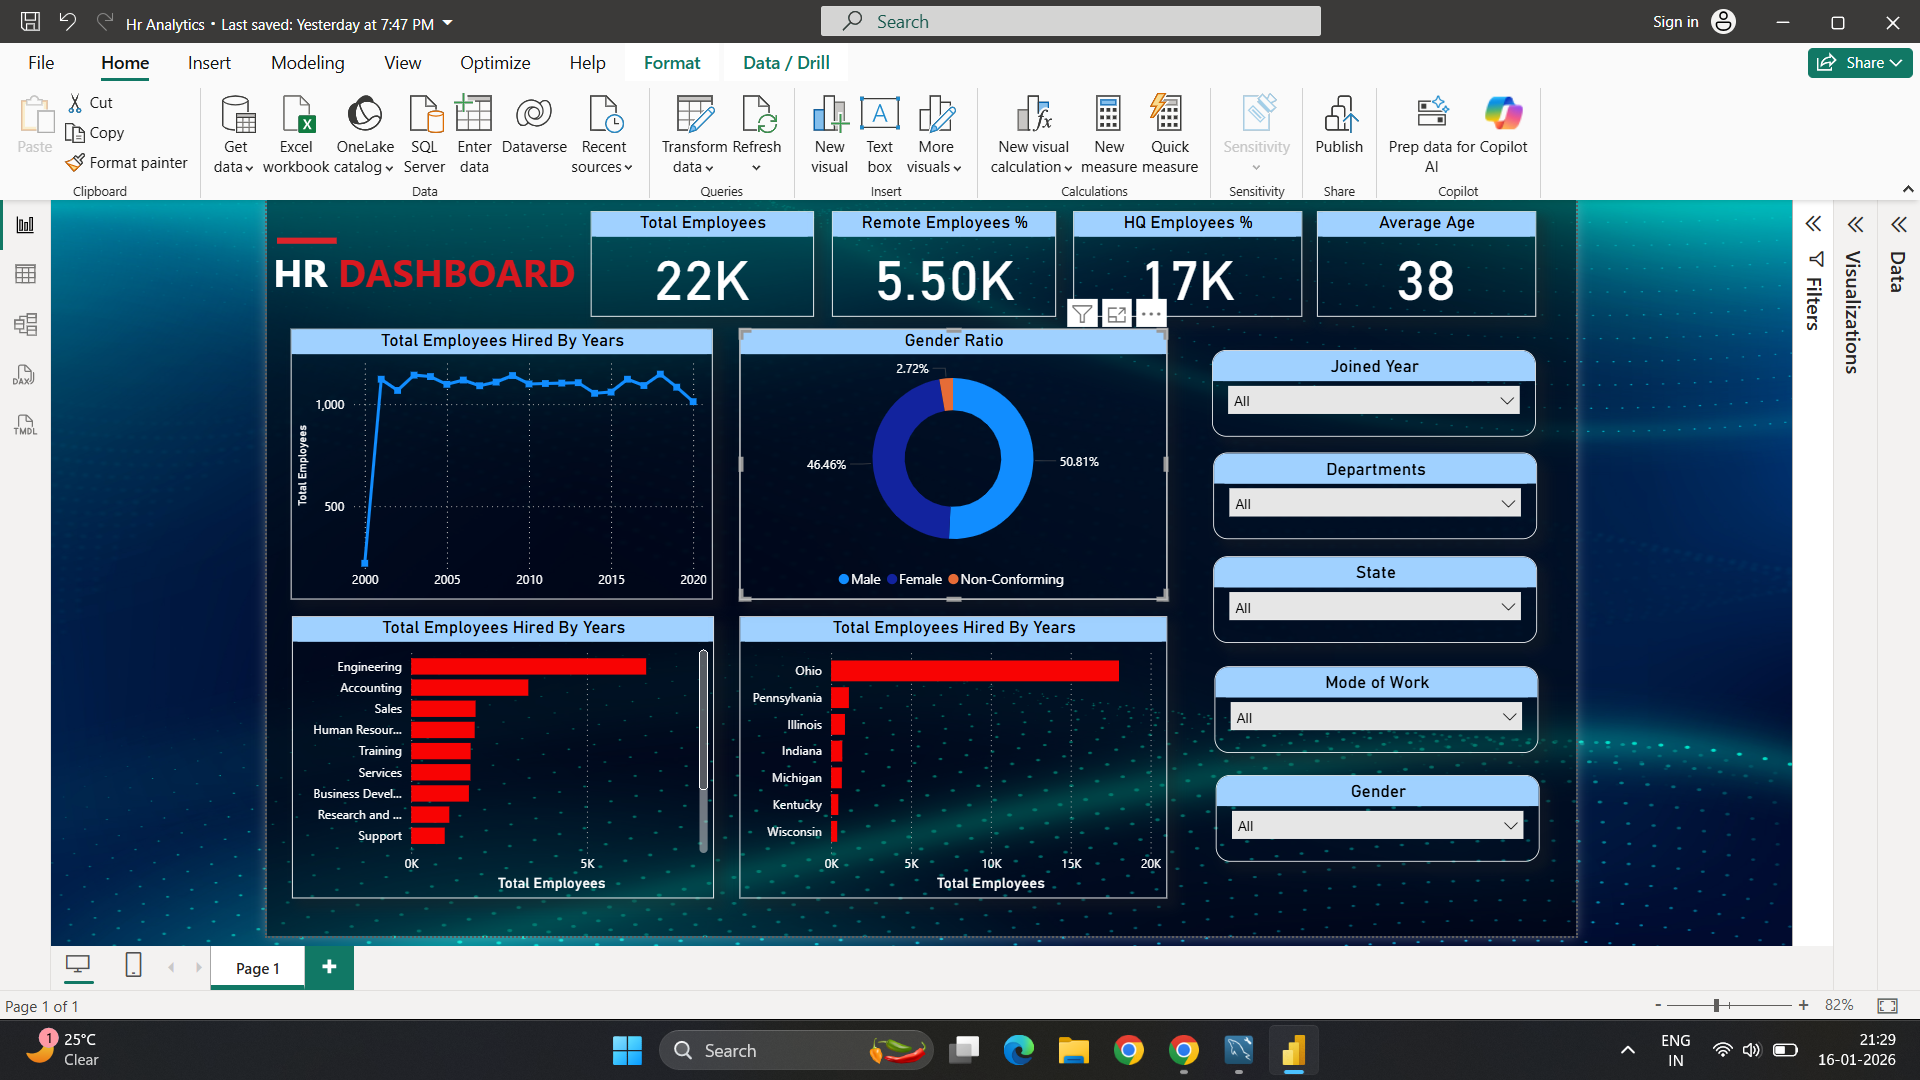

The dashboard page shown, as its layout file describes it:
{"tool":"powerbi","page":{"name":"Page 1","canvas":[1280,720],"ordinal":0},"visuals":[{"type":"textbox","box":[1.4,39.8,332.1,65.9],"z":0},{"type":"shape","box":[10,8.8,58.8,62.5],"z":1000},{"type":"card","title":"Total Employees","fields":{"Values":["HR_Analytics_Data.Total Employees"]},"box":[317,11,218.2,102.9],"z":2000},{"type":"card","title":"Remote Employees %","fields":{"Values":["HR_Analytics_Data.Percent Remote Employees"]},"box":[553,11,219.6,102.9],"z":3000},{"type":"card","title":"HQ Employees %","fields":{"Values":["HR_Analytics_Data.HQ Employees"]},"box":[789,11,223.7,102.9],"z":4000},{"type":"card","title":"Average Age","fields":{"Values":["HR_Analytics_Data.Average Age"]},"box":[1027.8,11,214.1,102.9],"z":5000},{"type":"lineChart","title":"Total Employees Hired By Years","fields":{"Y":["HR_Analytics_Data.Total Employees"],"Category":["HR_Analytics_Data.hire_date.Variation.Date Hierarchy.Year"]},"box":[23.3,126.2,413,264.8],"z":6000},{"type":"donutChart","title":"Gender Ratio","fields":{"Y":["CountNonNull(HR_Analytics_Data.gender)"],"Category":["HR_Analytics_Data.gender"]},"box":[462.4,126.2,418.5,264.8],"z":7000},{"type":"slicer","title":"Joined Year","fields":{"Values":["HR_Analytics_Data.Joined Year"]},"box":[924.9,146.8,317,85.1],"z":9000},{"type":"slicer","title":"Departments","fields":{"Values":["HR_Analytics_Data.department"]},"box":[925.6,247,317,85.1],"z":10000},{"type":"slicer","title":"State","fields":{"Values":["HR_Analytics_Data.race"]},"box":[926.2,348.5,317,85.1],"z":11000},{"type":"slicer","title":"Mode of Work","fields":{"Values":["HR_Analytics_Data.location"]},"box":[926.9,455.6,317,85.1],"z":12000},{"type":"slicer","title":"Gender","fields":{"Values":["HR_Analytics_Data.gender"]},"box":[927.6,562.6,317,85.1],"z":13000},{"type":"barChart","title":"Total Employees Hired By Years","fields":{"Y":["HR_Analytics_Data.Total Employees"],"Category":["HR_Analytics_Data.department"]},"box":[24.7,407.5,413,275.8],"z":14000},{"type":"barChart","title":"Total Employees Hired By Years","fields":{"Y":["HR_Analytics_Data.Total Employees"],"Category":["HR_Analytics_Data.location_state"]},"box":[462.4,407.5,418.5,275.8],"z":15000}]}

Visuals, with their boxes on the page's 1280x720 design canvas (x1, y1, x2, y2). These are canvas units, not pixel positions in the 1920x1080 screenshot, which may show the page scaled, cropped or inside an application window:
textbox: <bbox>1, 40, 334, 106</bbox>
shape: <bbox>10, 9, 69, 71</bbox>
"Total Employees" card: <bbox>317, 11, 535, 114</bbox>
"Remote Employees %" card: <bbox>553, 11, 773, 114</bbox>
"HQ Employees %" card: <bbox>789, 11, 1013, 114</bbox>
"Average Age" card: <bbox>1028, 11, 1242, 114</bbox>
"Total Employees Hired By Years" lineChart: <bbox>23, 126, 436, 391</bbox>
"Gender Ratio" donutChart: <bbox>462, 126, 881, 391</bbox>
"Joined Year" slicer: <bbox>925, 147, 1242, 232</bbox>
"Departments" slicer: <bbox>926, 247, 1243, 332</bbox>
"State" slicer: <bbox>926, 348, 1243, 434</bbox>
"Mode of Work" slicer: <bbox>927, 456, 1244, 541</bbox>
"Gender" slicer: <bbox>928, 563, 1245, 648</bbox>
"Total Employees Hired By Years" barChart: <bbox>25, 408, 438, 683</bbox>
"Total Employees Hired By Years" barChart: <bbox>462, 408, 881, 683</bbox>
